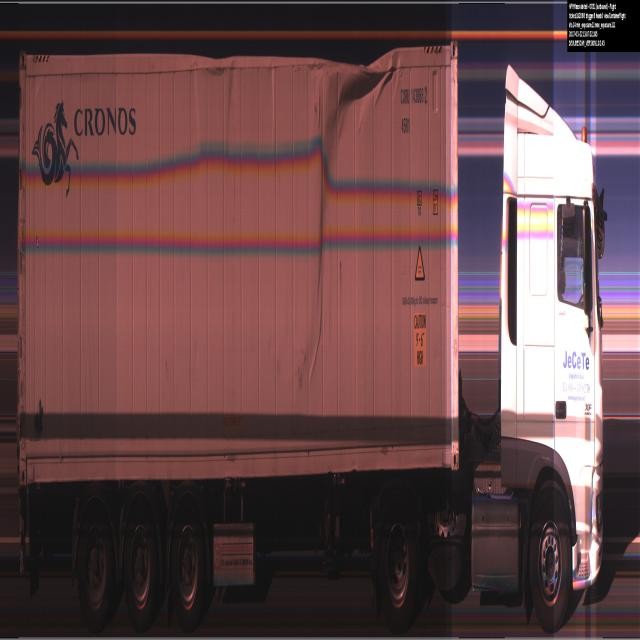dent: (299, 85, 345, 403), (299, 46, 411, 133), (330, 69, 405, 132), (193, 48, 245, 93)
